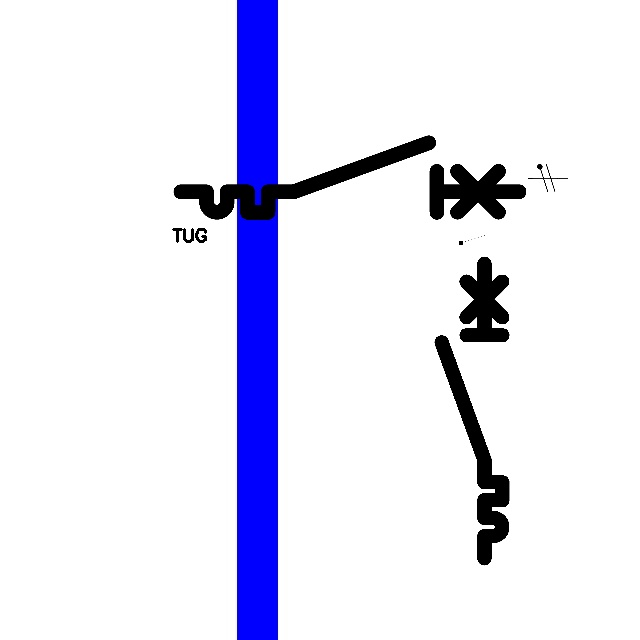interruptor_termomagnetico: (172, 134, 528, 221), (434, 256, 510, 566)
